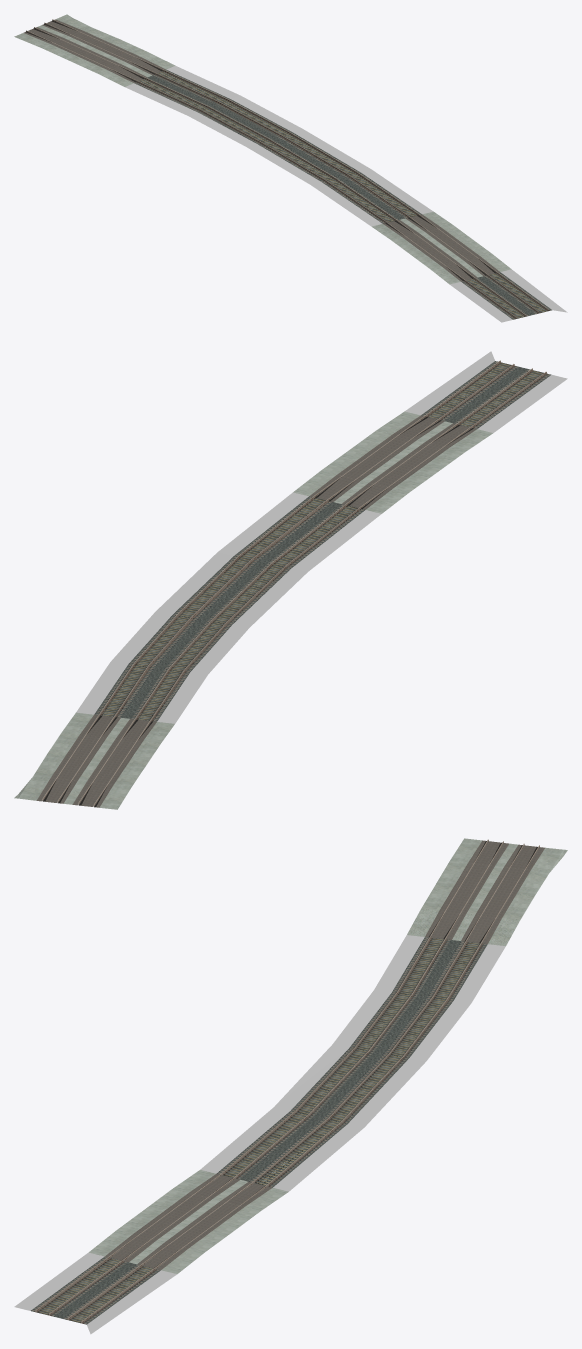
Rendered from laerailtrack4.obj.
The picture shows the model from 3 angles, top to bottom: view 1: azimuth 30°, elevation 25°; view 2: azimuth 150°, elevation 25°; view 3: azimuth 330°, elevation 25°; orthographic projection. The views are drawn at different scales.
Parts seen in each view (by area): view 1: laerailtrack4; view 2: laerailtrack4; view 3: laerailtrack4.
Part boxes in pixels (box(x1,y1,x2,y2)): laerailtrack4: box(14, 14, 567, 322); laerailtrack4: box(14, 351, 567, 809); laerailtrack4: box(14, 838, 567, 1334).
Bounding box in the file's own units: 26.34 × 2.41 × 128.
